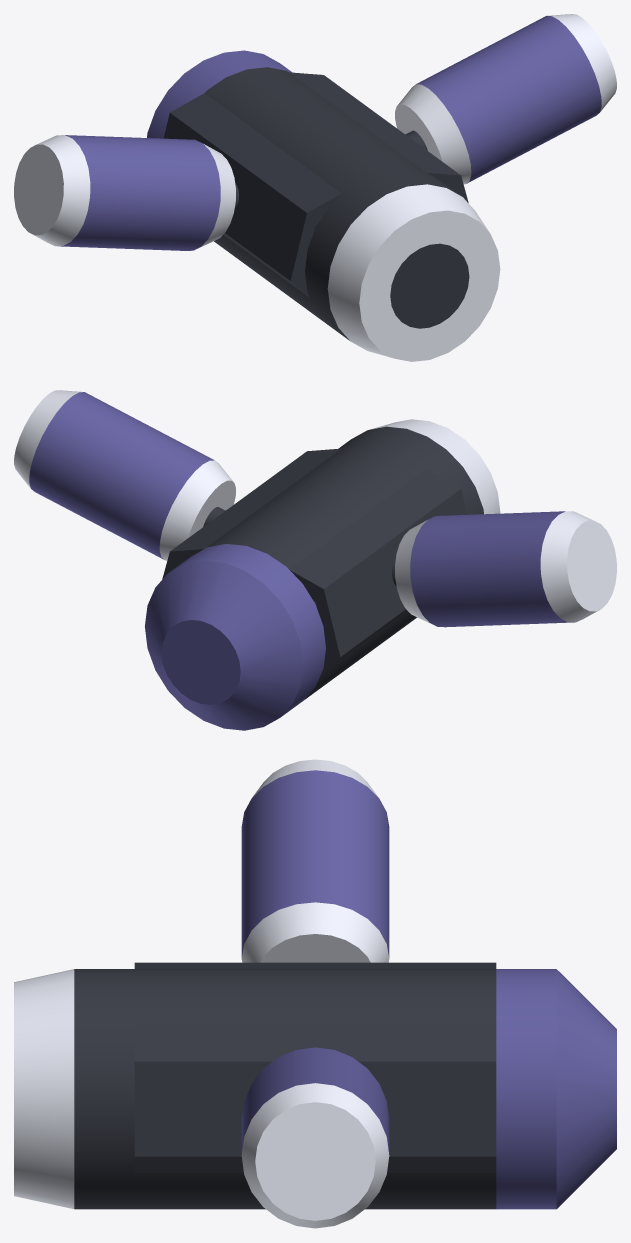
The model's file is WatcherDrone.fbx.
3 views of the same model, one above another, from view 1: azimuth 30°, elevation 25°; view 2: azimuth 150°, elevation 25°; view 3: azimuth 270°, elevation 25° (orthographic). The views are drawn at different scales.
Visible parts, largest first — view 1: attachment_handle (×2), attachment_silencer; view 2: attachment_handle (×2), attachment_silencer; view 3: attachment_handle (×2), attachment_silencer.
Boxes of the visible parts, x1,y1,x2,y2 form: attachment_handle (×2): (14, 14, 616, 297); attachment_silencer: (147, 50, 500, 361); attachment_handle (×2): (14, 390, 616, 673); attachment_silencer: (144, 419, 500, 730); attachment_handle (×2): (134, 759, 496, 1228); attachment_silencer: (14, 969, 616, 1209).
Size of the model in its own units: 14.48 by 4.97 by 10.
